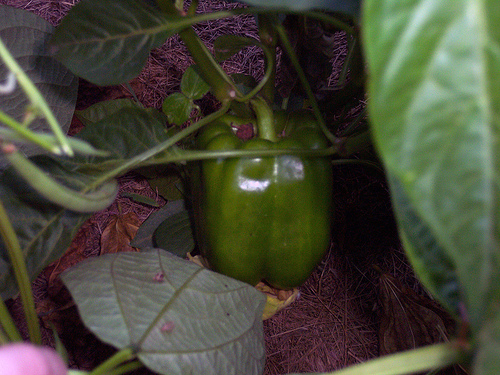capsicum: (207, 86, 329, 286)
